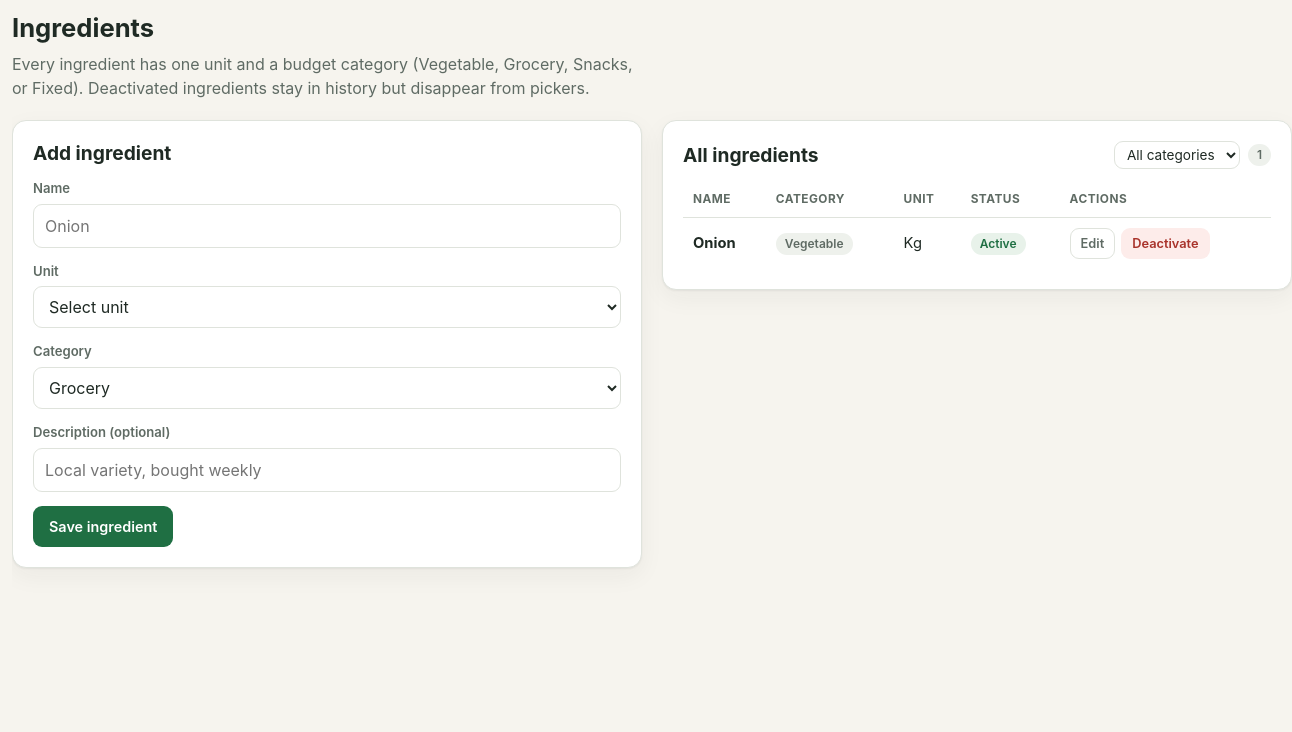
Scenario: Ingredients screen › rejects a blank name
Expected: the text "Onion" is shown, [693,234,736,252]
Select "Kg" in the dropdown labelled "Unit" at coordinates (327, 307), box [33,286,621,328]
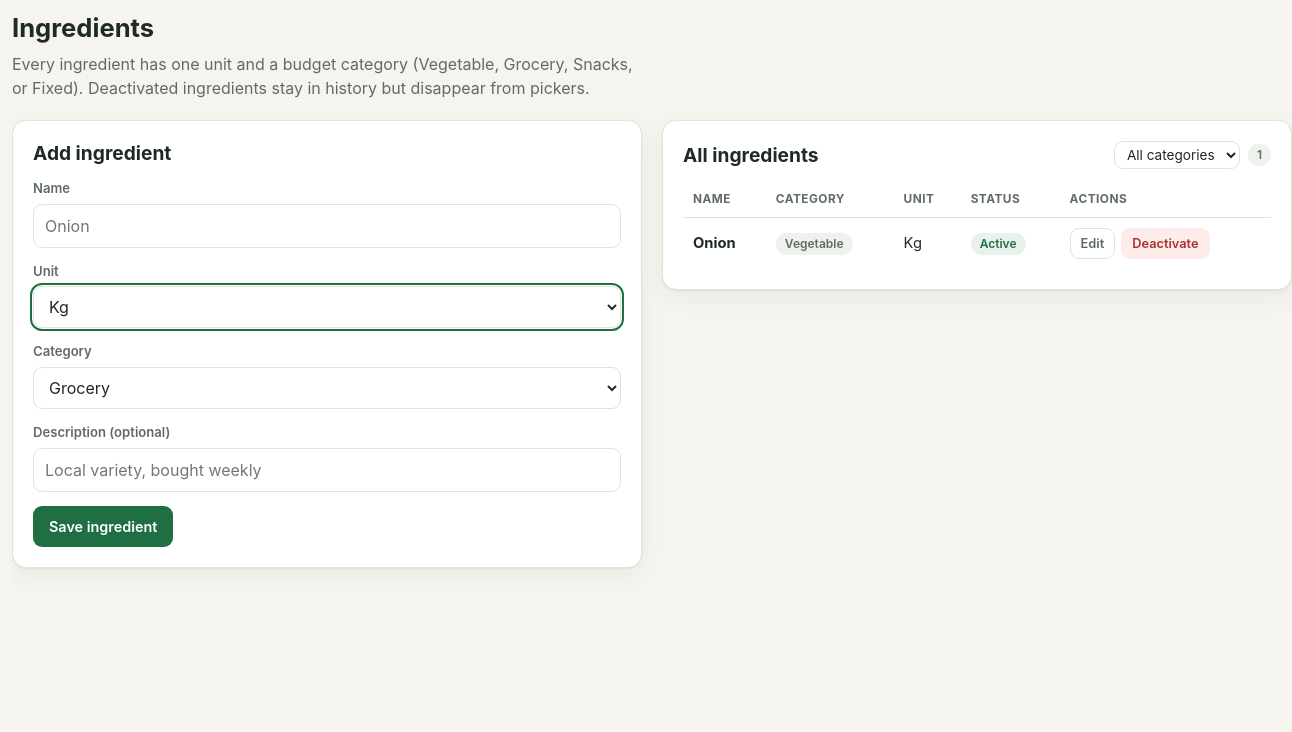
Click the button "Save ingredient" at coordinates (103, 526), box [33,506,173,547]
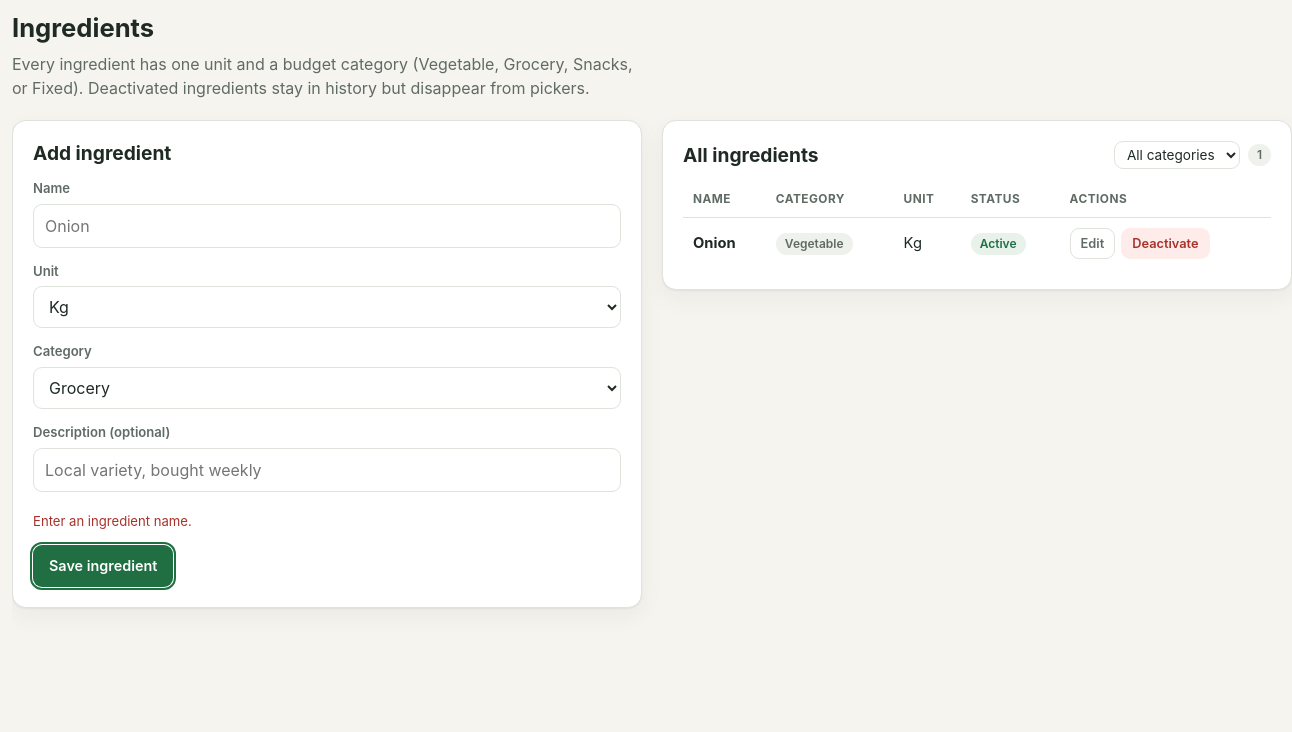
Expected: the text "Enter an ingredient name." is shown, [33,513,192,529]
